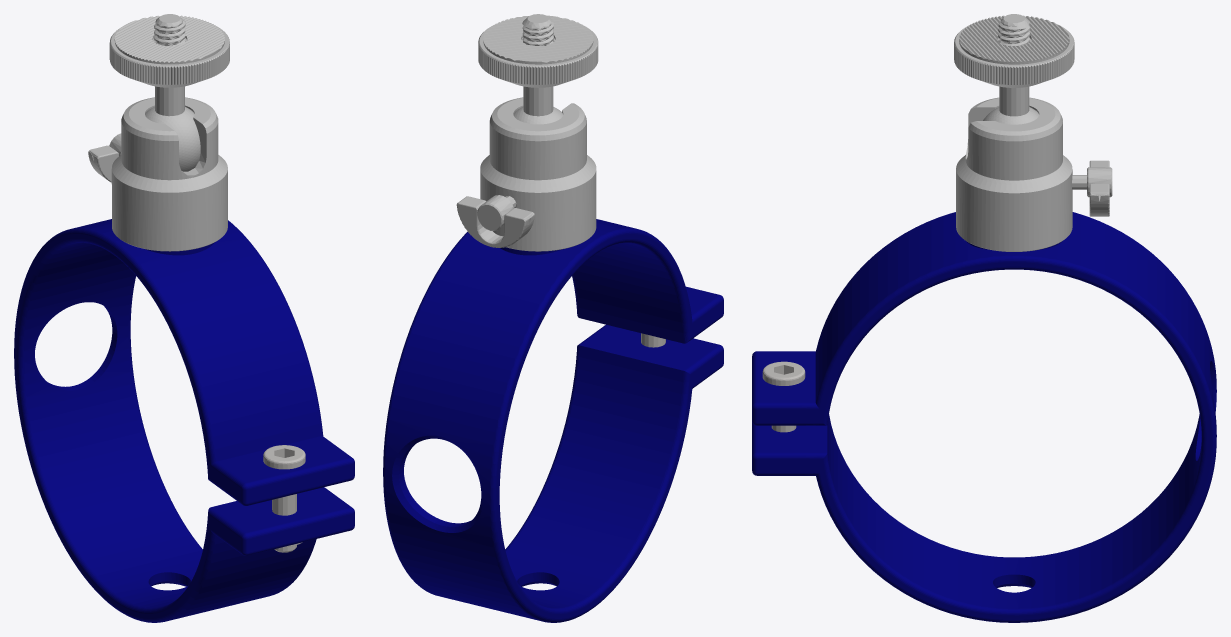
Rendered from camera_holder_mount.dae.
The picture shows the model from 3 angles, left to right: view 1: azimuth 30°, elevation 25°; view 2: azimuth 150°, elevation 25°; view 3: azimuth 270°, elevation 25°; orthographic projection.
Parts seen in each view (by area): view 1: node0, node8, node6, node12, node10, node3, node13; view 2: node0, node8, node6, node10, node12, node13, node11; view 3: node0, node8, node6, node10, node12, node3, node13, node11.
Part boxes in pixels (x1,y1,x2,y2): node0: (14,219,354,622); node8: (111,97,227,251); node6: (114,15,224,64); node12: (145,14,200,171); node10: (109,24,229,87); node3: (263,445,305,552); node13: (88,145,118,182); node0: (383,219,723,622); node8: (480,97,596,251); node6: (483,15,593,64); node10: (478,24,598,87); node12: (513,14,562,124); node13: (456,196,534,247); node11: (477,195,516,230); node0: (752,212,1216,622); node8: (956,97,1072,251); node6: (959,15,1069,64); node10: (954,21,1074,87); node12: (983,14,1038,124); node3: (762,361,805,432); node13: (1089,160,1109,216); node11: (1072,167,1112,197).
Bounding box in the file's own units: 0.026 × 0.0926 × 0.1272.
